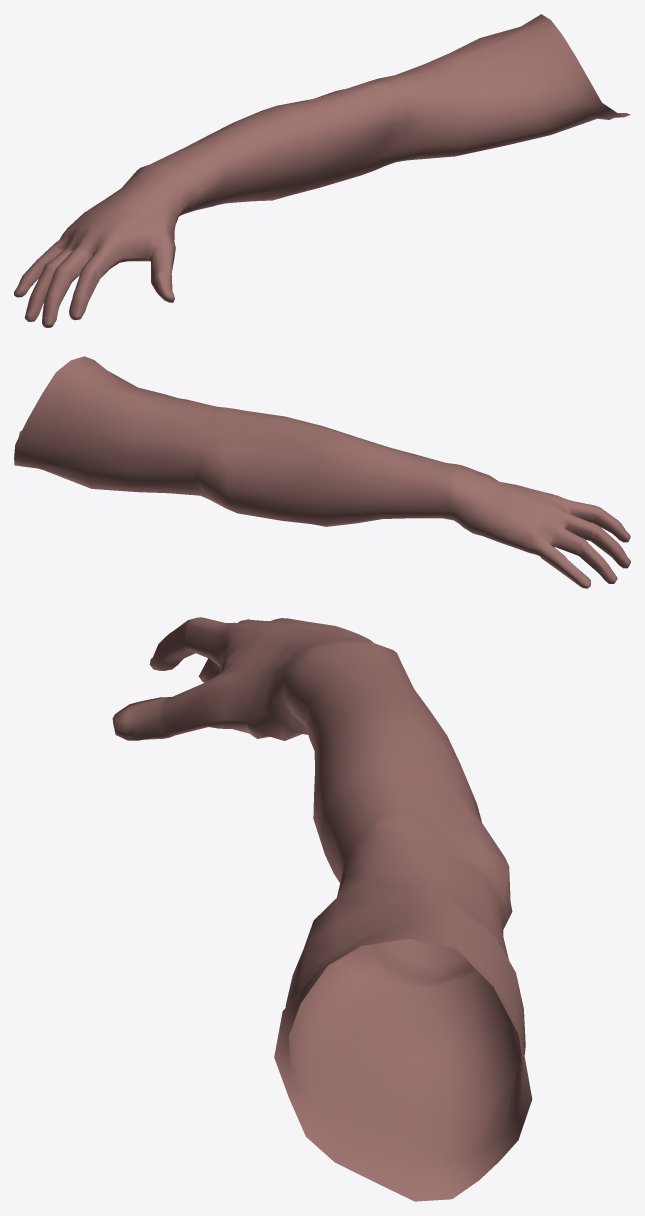
File: low_poly_hand_r_update.obj
3 renders of one model, top to bottom at view 1: azimuth 30°, elevation 25°; view 2: azimuth 150°, elevation 25°; view 3: azimuth 270°, elevation 25°, orthographic. The views are drawn at different scales.
Visible parts, largest first — view 1: low_poly_hand_r_update_0; view 2: low_poly_hand_r_update_0; view 3: low_poly_hand_r_update_0.
Boxes of the visible parts, x1,y1,x2,y2 form: low_poly_hand_r_update_0: (14,14,630,327); low_poly_hand_r_update_0: (14,356,630,588); low_poly_hand_r_update_0: (112,617,532,1201).
Size of the model in its own units: 0.7322 by 0.1531 by 0.2331.
